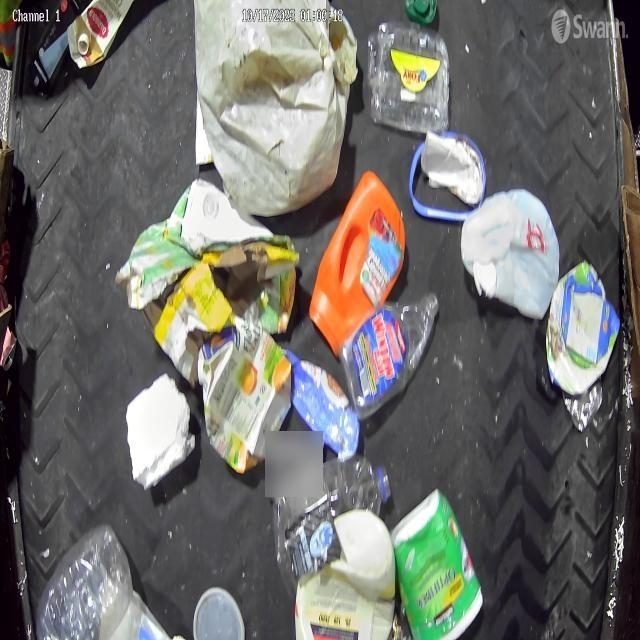milk_jug: (460, 187, 560, 320)
non_white_jug: (313, 172, 406, 343), (198, 320, 292, 475), (294, 508, 397, 640), (67, 0, 134, 69)
plastic_bottle: (274, 452, 390, 599), (342, 290, 440, 418)
